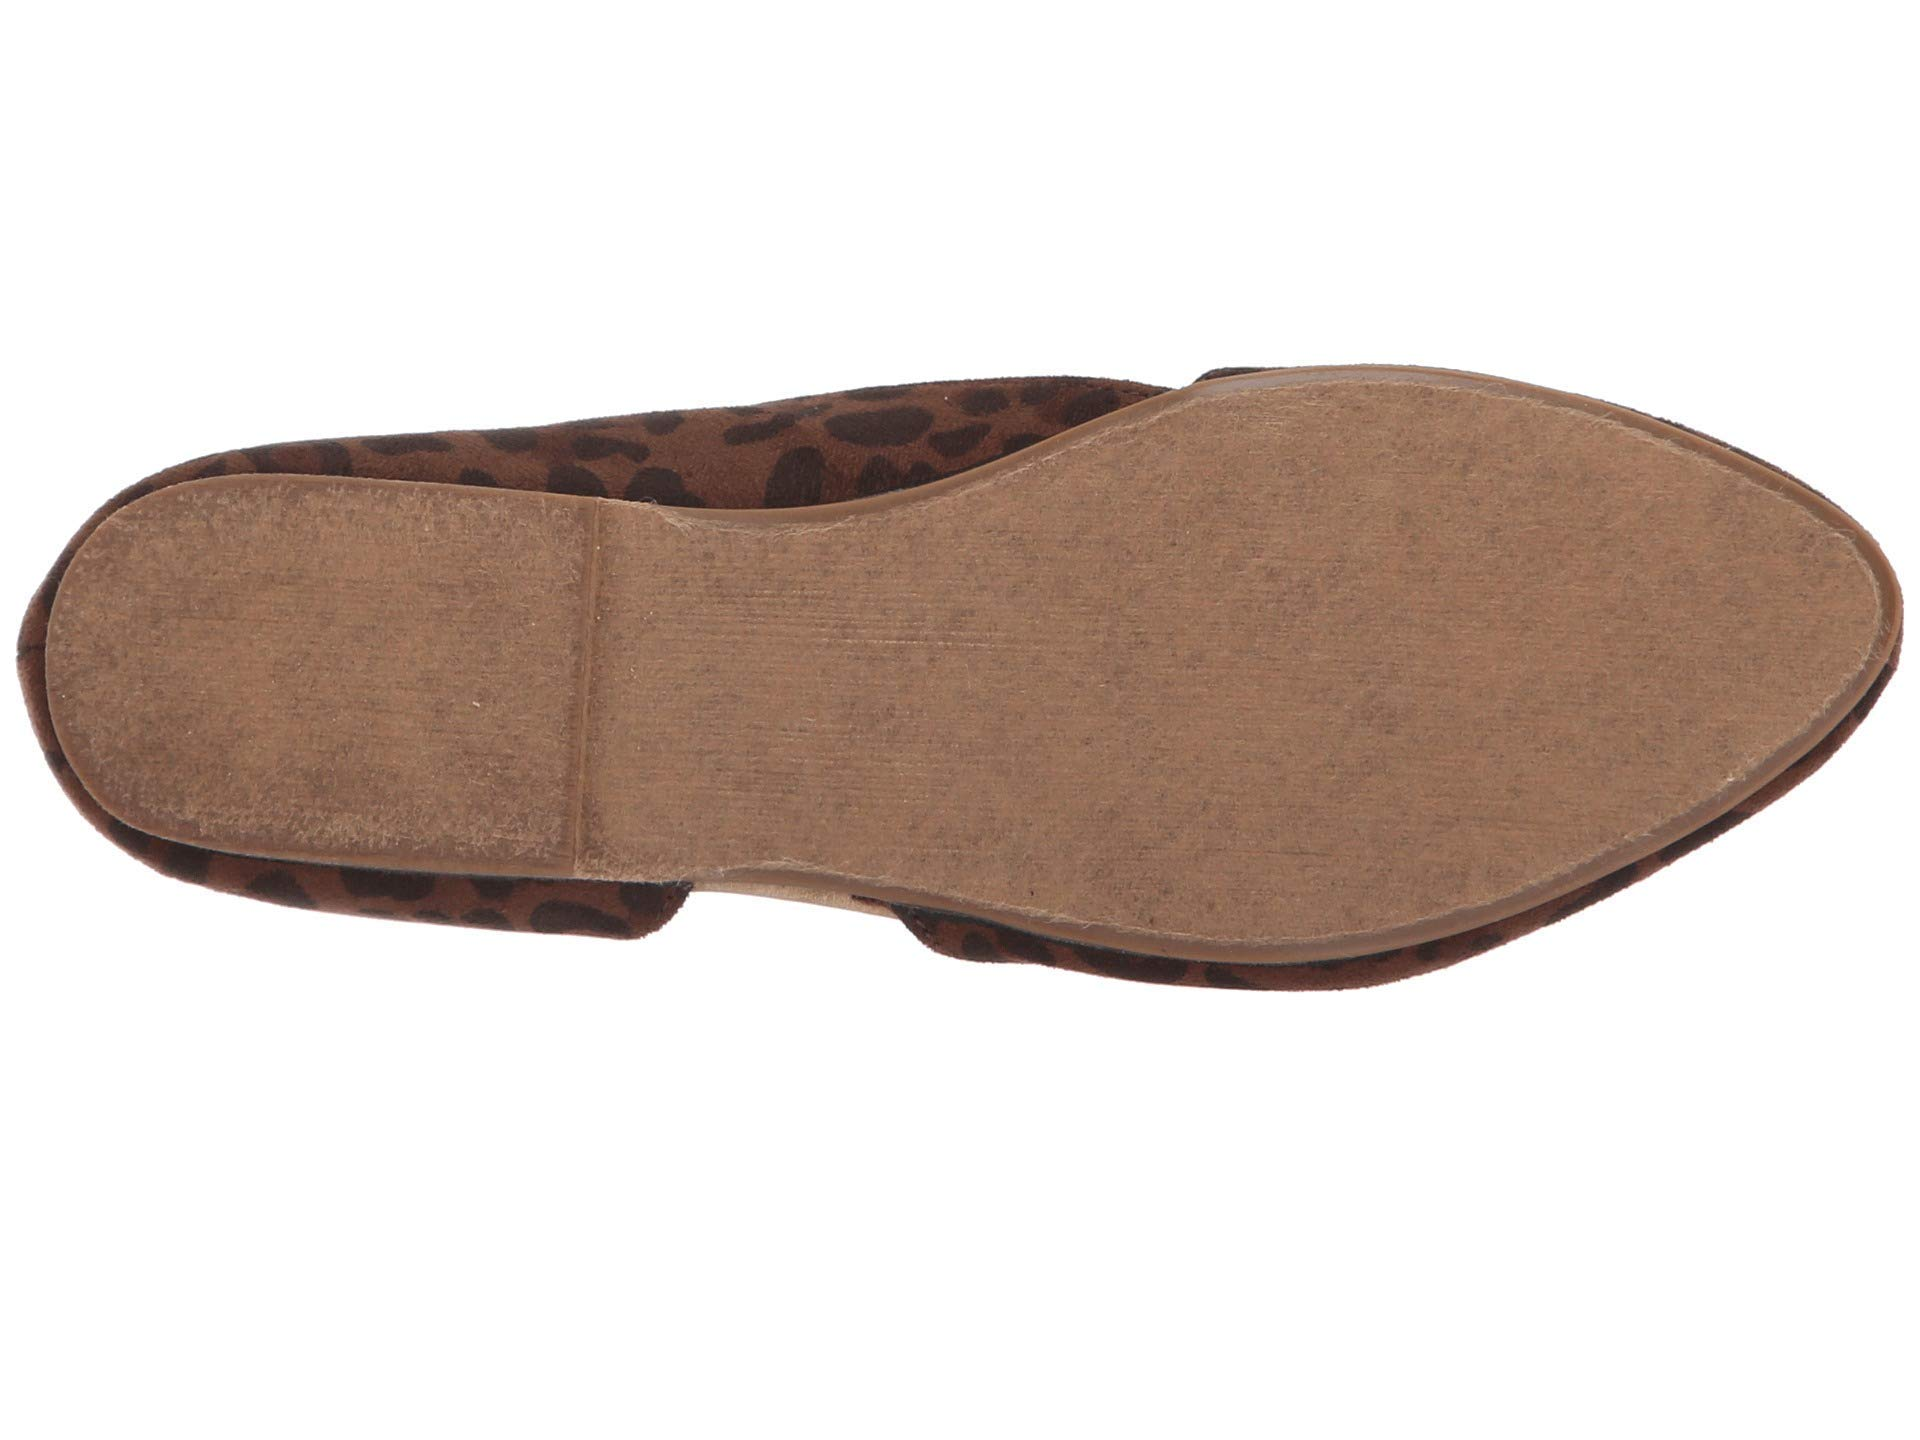line: (538, 516, 633, 829)
